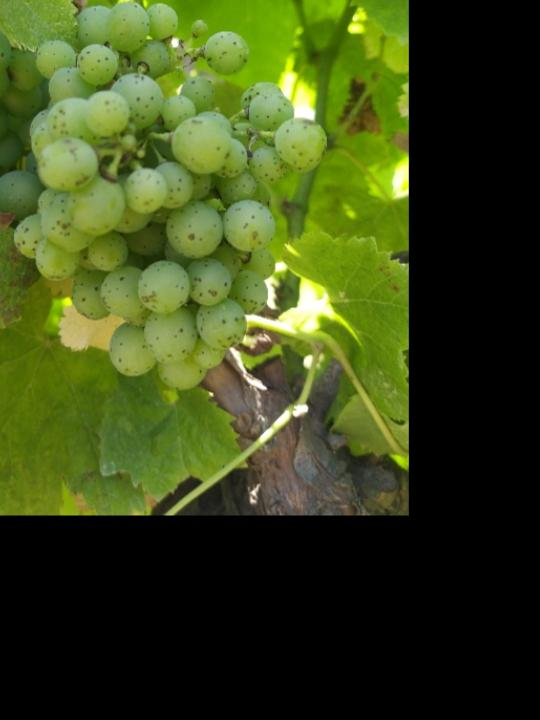grape: (9, 0, 326, 394)
